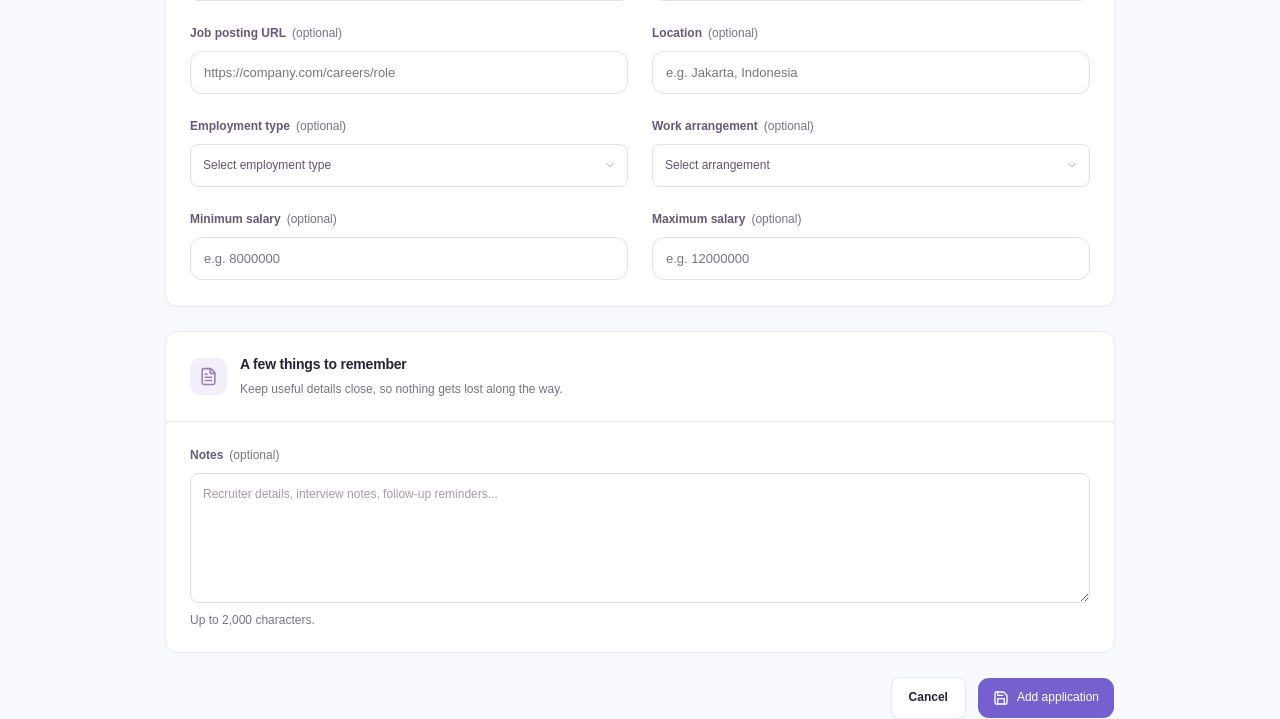
CreateApplicationPage › rejects empty required fields without sending a request
(page scrolled)
What coordinates should you click on to do the following:
click the button "Add application"
I would click on:
 (1046, 698)
Its box is [977,677,1115,718].
(page scrolled)
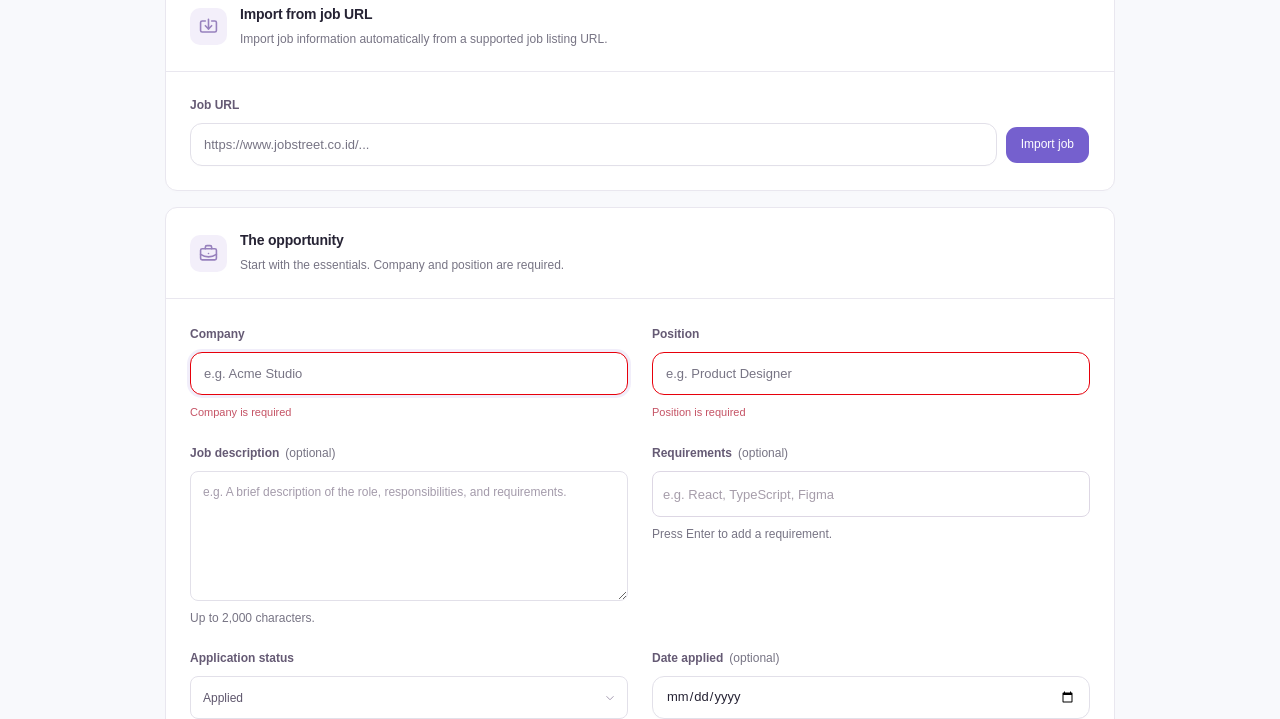
Expected: the text "Company is required" is shown, [190,406,292,418]
Expected: the text "Position is required" is shown, [652,406,746,418]
